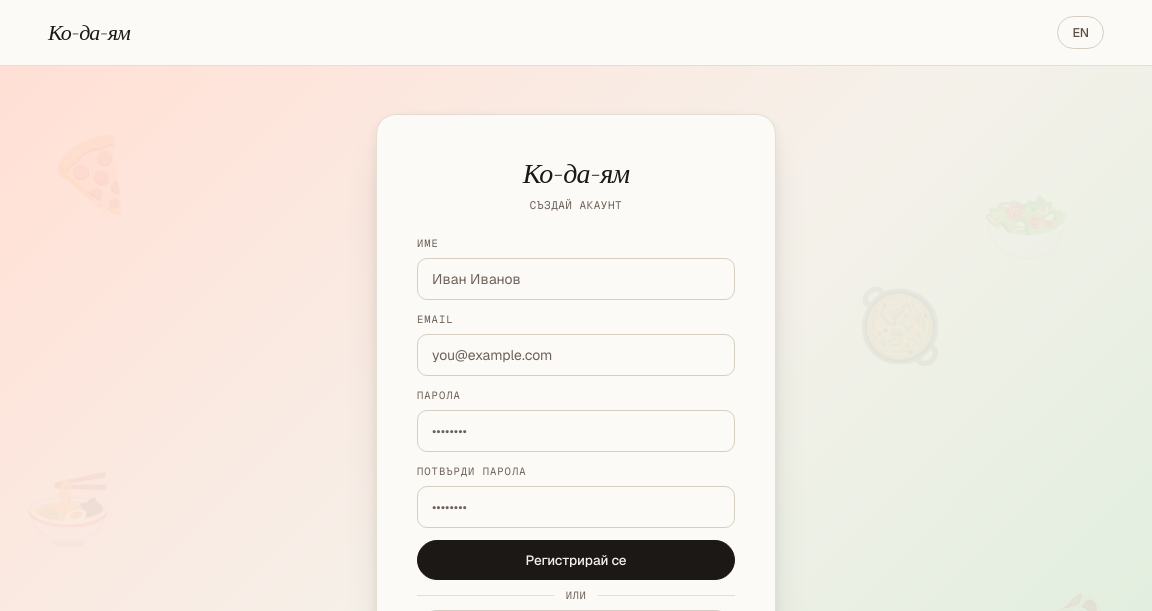
Test: RegisterScreen › shows error when passwords do not match
The image size is (1152, 611).
Type "Тест" into the field with placeholder "Иван Иванов".
click(576, 279); type("Тест")  # box [417,258,735,300]
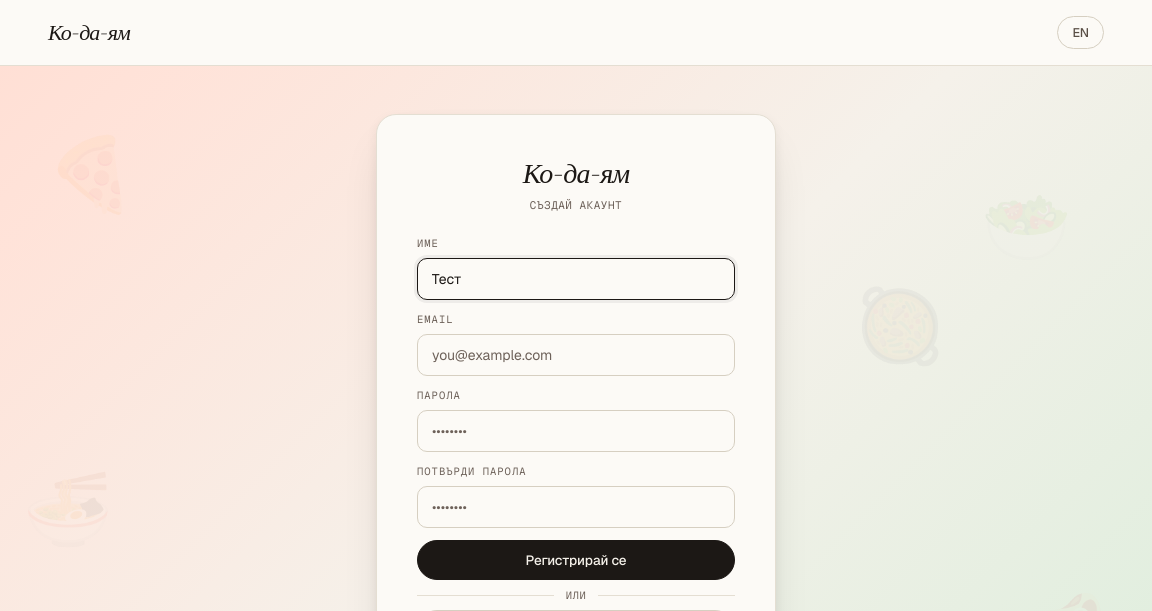
Type "test@test.com" into the field with placeholder "you@example.com".
click(576, 355); type("test@test.com")  # box [417,334,735,376]
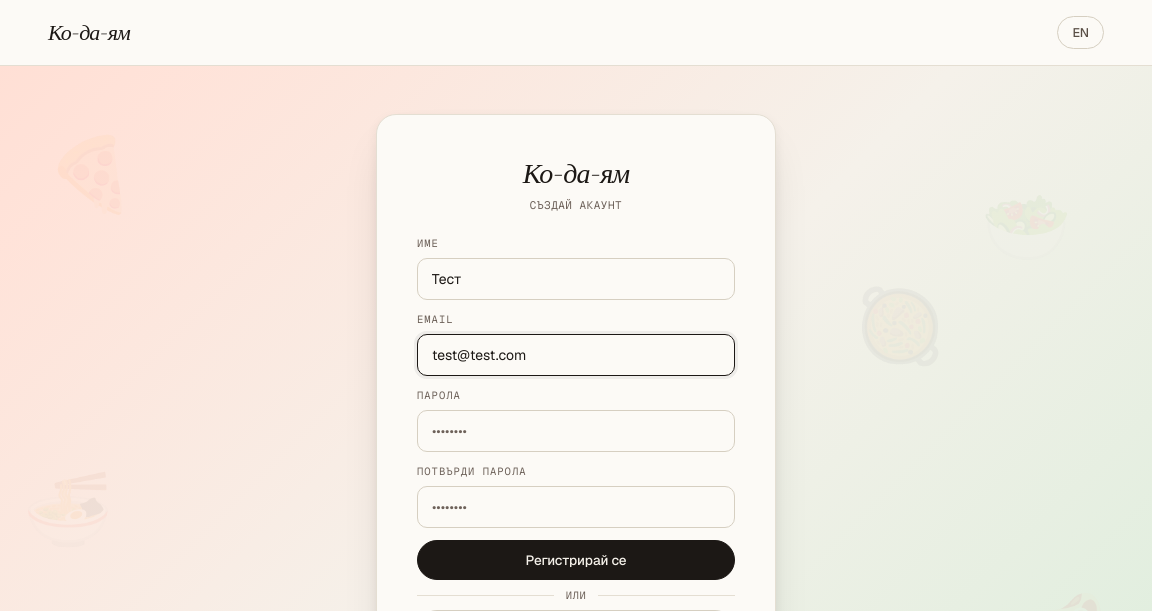
Type "password123" into the 1st password field with placeholder "••••••••".
click(576, 431); type("password123")  # box [417,410,735,452]
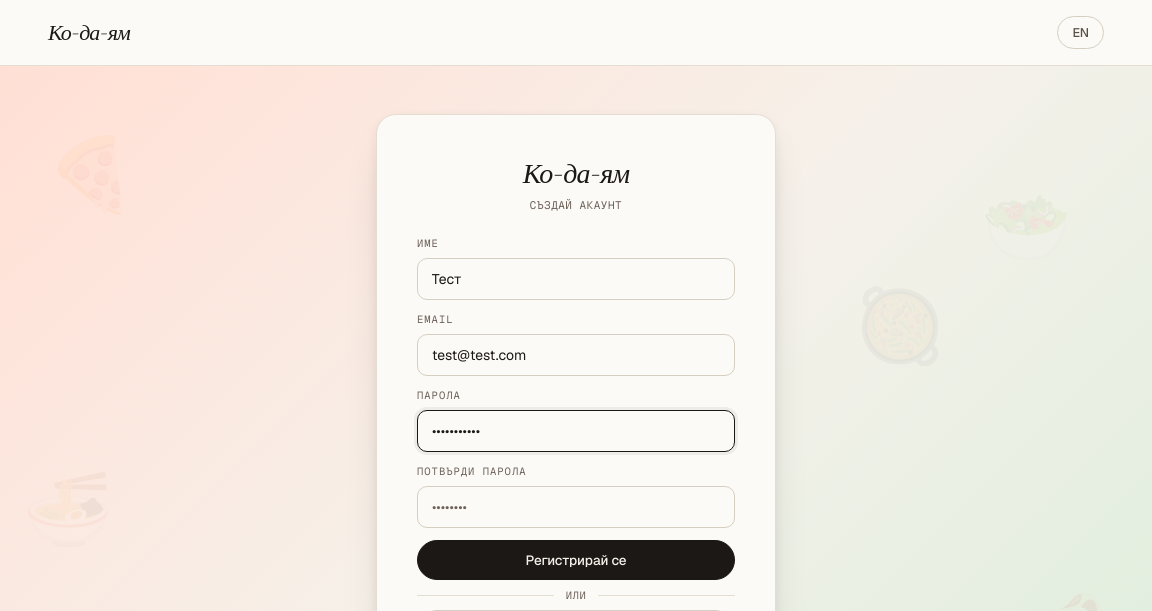
Type "different" into the password field with placeholder "••••••••".
click(576, 507); type("different")  # box [417,486,735,528]
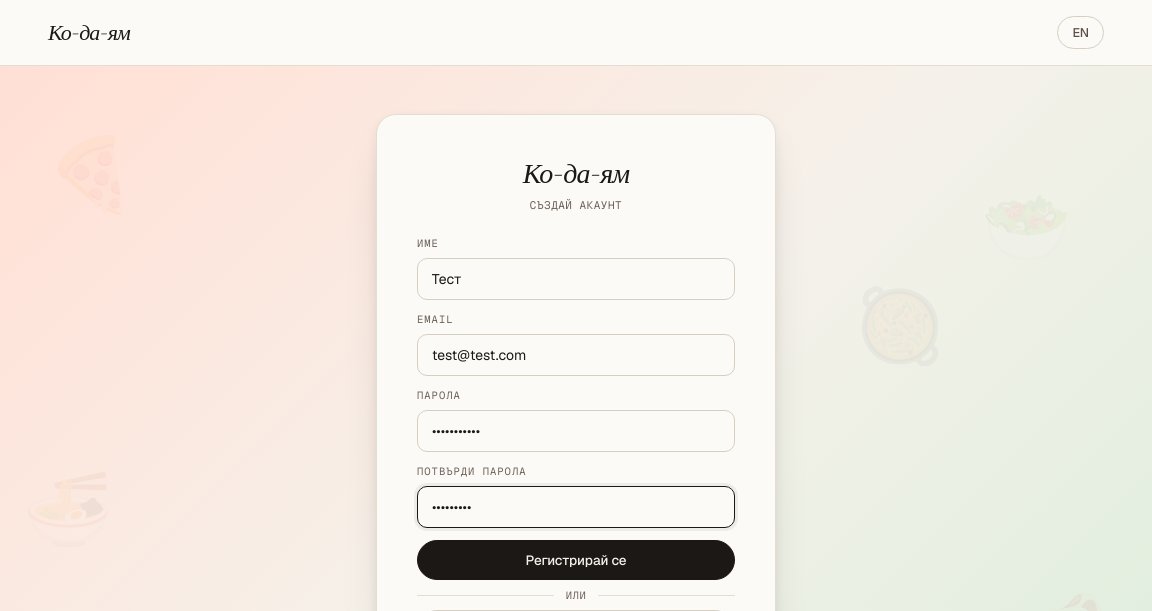
Click the button "Регистрирай се".
click(576, 560)  # box [417,540,735,580]
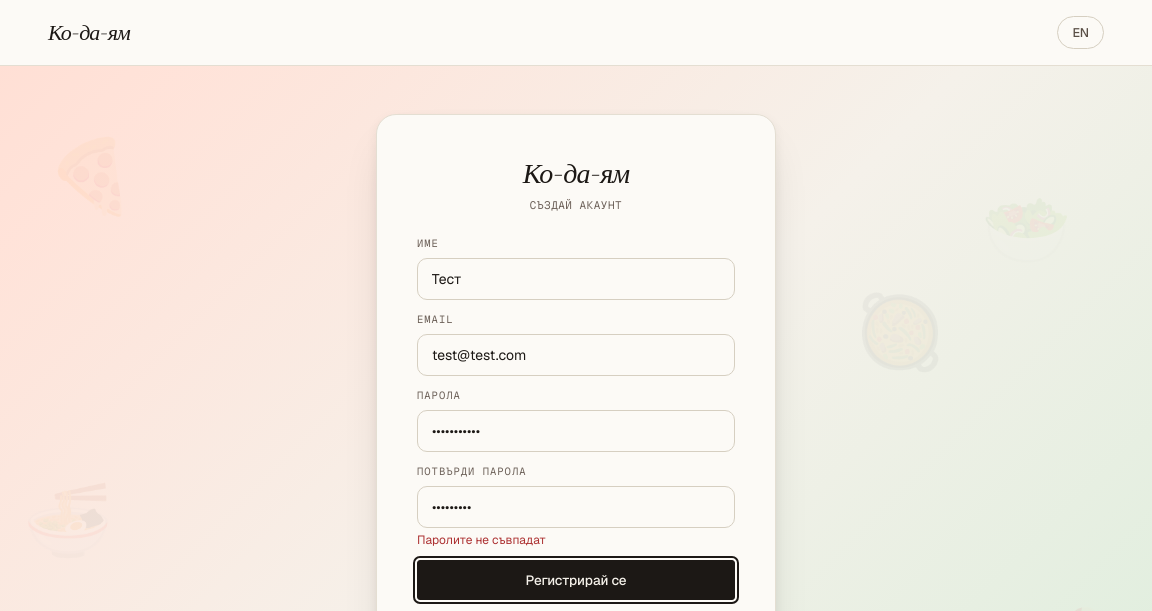
Now the text "Паролите не съвпадат" is shown, box [417,532,546,548]
